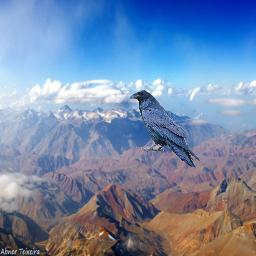Crow: (128, 89, 200, 167)
